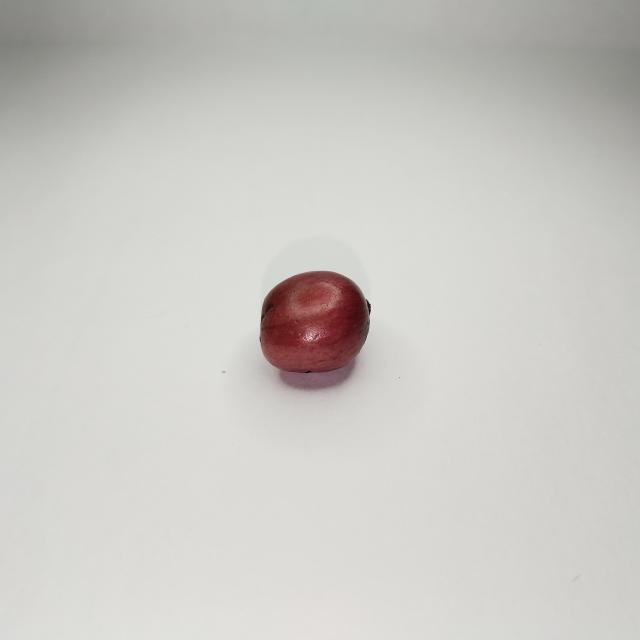Sano: (261, 271, 370, 380)
